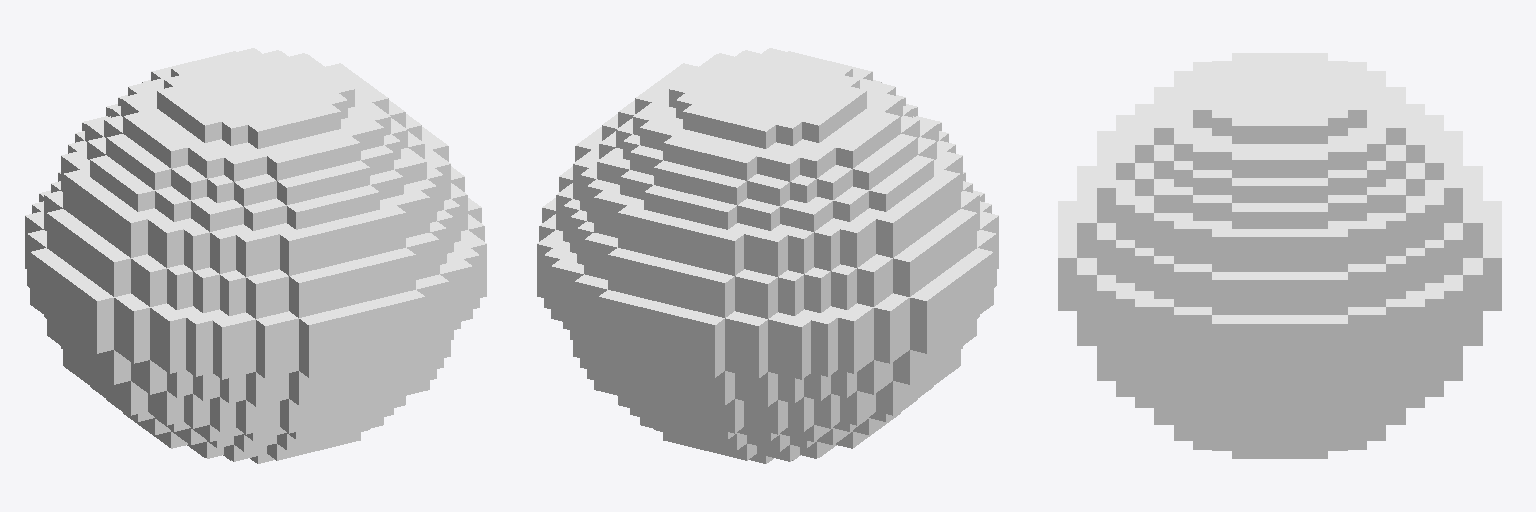
The model's file is watermelon.obj.
The picture shows the model from 3 angles: view 1: azimuth 30°, elevation 25°; view 2: azimuth 150°, elevation 25°; view 3: azimuth 270°, elevation 25°; orthographic projection.
Bounding box in the file's own units: 23 × 19 × 23.